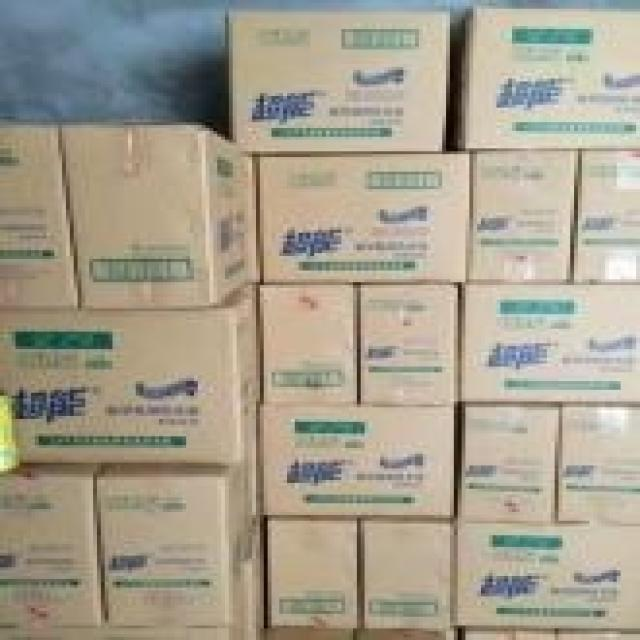box: (5, 281, 262, 464), (63, 124, 256, 308), (90, 421, 261, 626), (228, 10, 450, 153), (252, 151, 473, 282), (6, 534, 268, 637), (443, 11, 636, 149), (456, 281, 636, 404), (264, 405, 454, 518), (454, 522, 636, 628), (0, 456, 108, 625), (465, 148, 580, 283), (0, 119, 79, 310), (453, 405, 559, 525), (357, 283, 462, 403), (262, 283, 360, 402), (361, 518, 454, 632), (269, 517, 360, 628), (554, 407, 636, 524), (568, 148, 636, 283), (264, 626, 358, 637), (356, 628, 454, 637), (559, 631, 636, 637), (460, 630, 517, 637), (516, 630, 560, 637)
